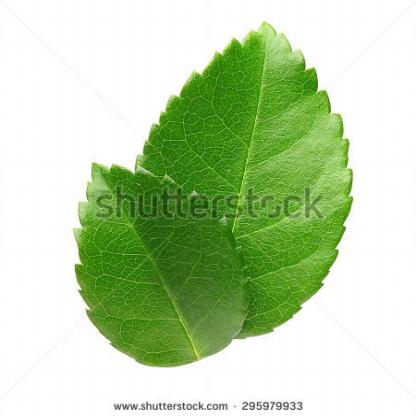Apple leaf: (61, 12, 356, 368)
